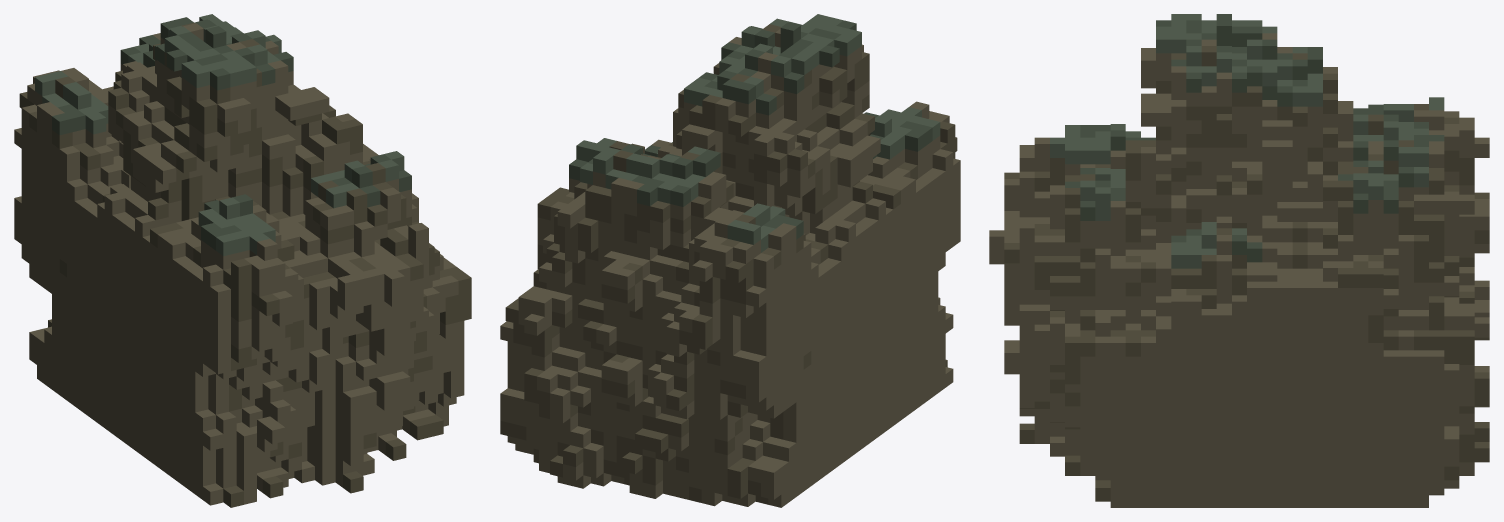
The model's file is mountain_5_lo.obj.
3 views of the same model, side by side, from view 1: azimuth 30°, elevation 25°; view 2: azimuth 150°, elevation 25°; view 3: azimuth 270°, elevation 25° (orthographic).
Parts seen in each view (by area): view 1: mountain_5_lo; view 2: mountain_5_lo; view 3: mountain_5_lo.
Boxes of the visible parts, bbox=[...] form: mountain_5_lo: bbox=[14, 14, 471, 507]; mountain_5_lo: bbox=[500, 14, 960, 507]; mountain_5_lo: bbox=[989, 14, 1489, 507].
Bounding box in the file's own units: 4 × 5.8 × 6.6.
Materials: 1 (1 with a texture image).
